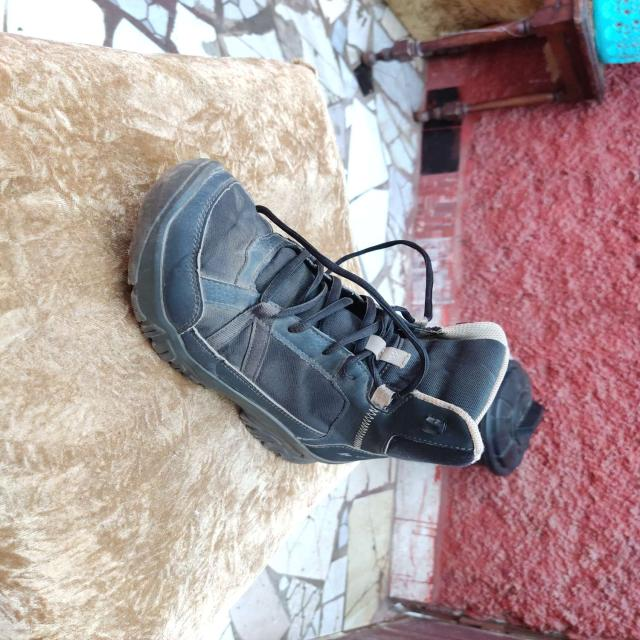shoe: (126, 156, 520, 468)
